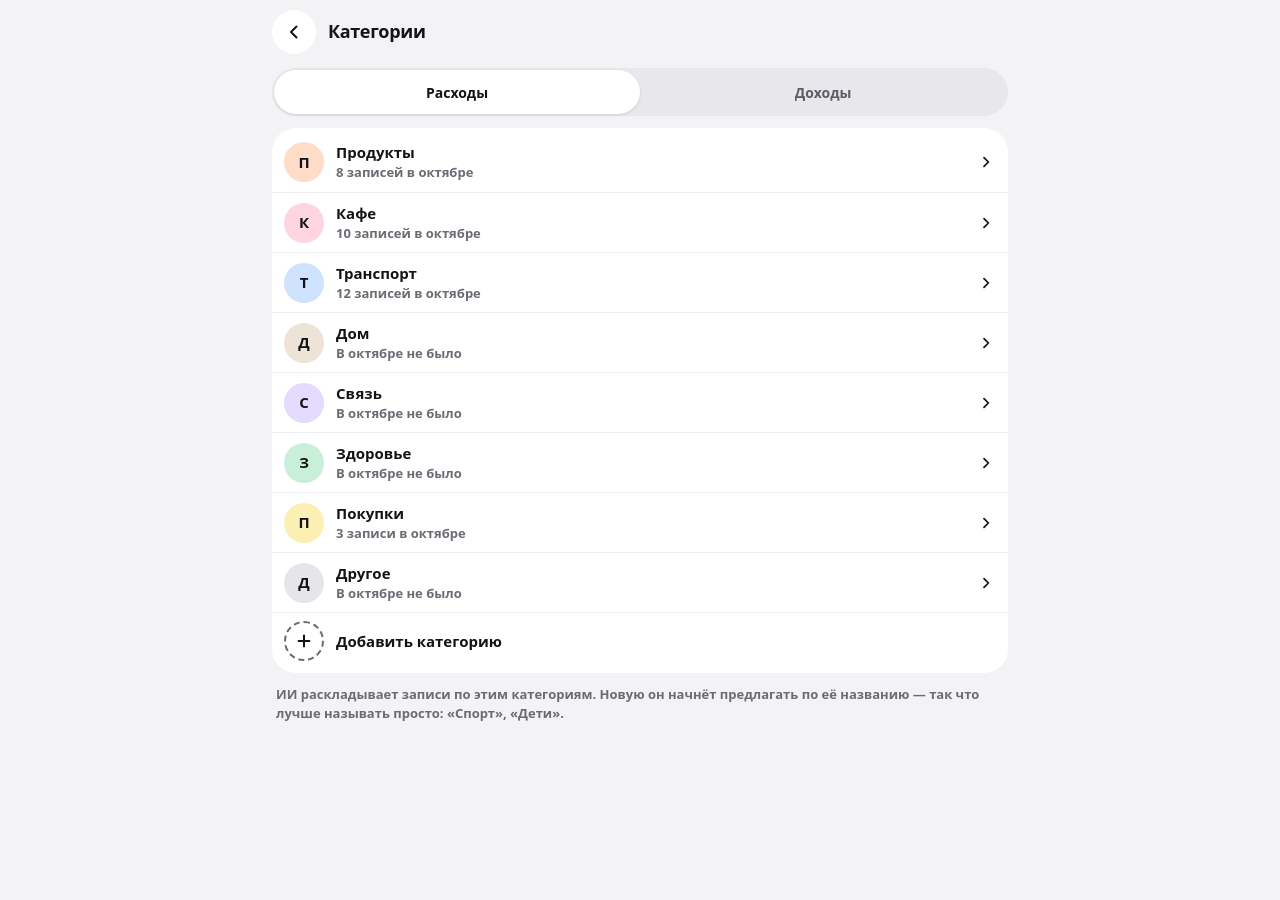
Scenario: «Категория «Кафе»»: the edit applies when the sheet closes › «Готово» closes and saves too; only a new colour says «новый цвет»
Click the button "К Кафе 10 записей в октябре".
click(304, 222)  # box [272, 192, 1008, 252]
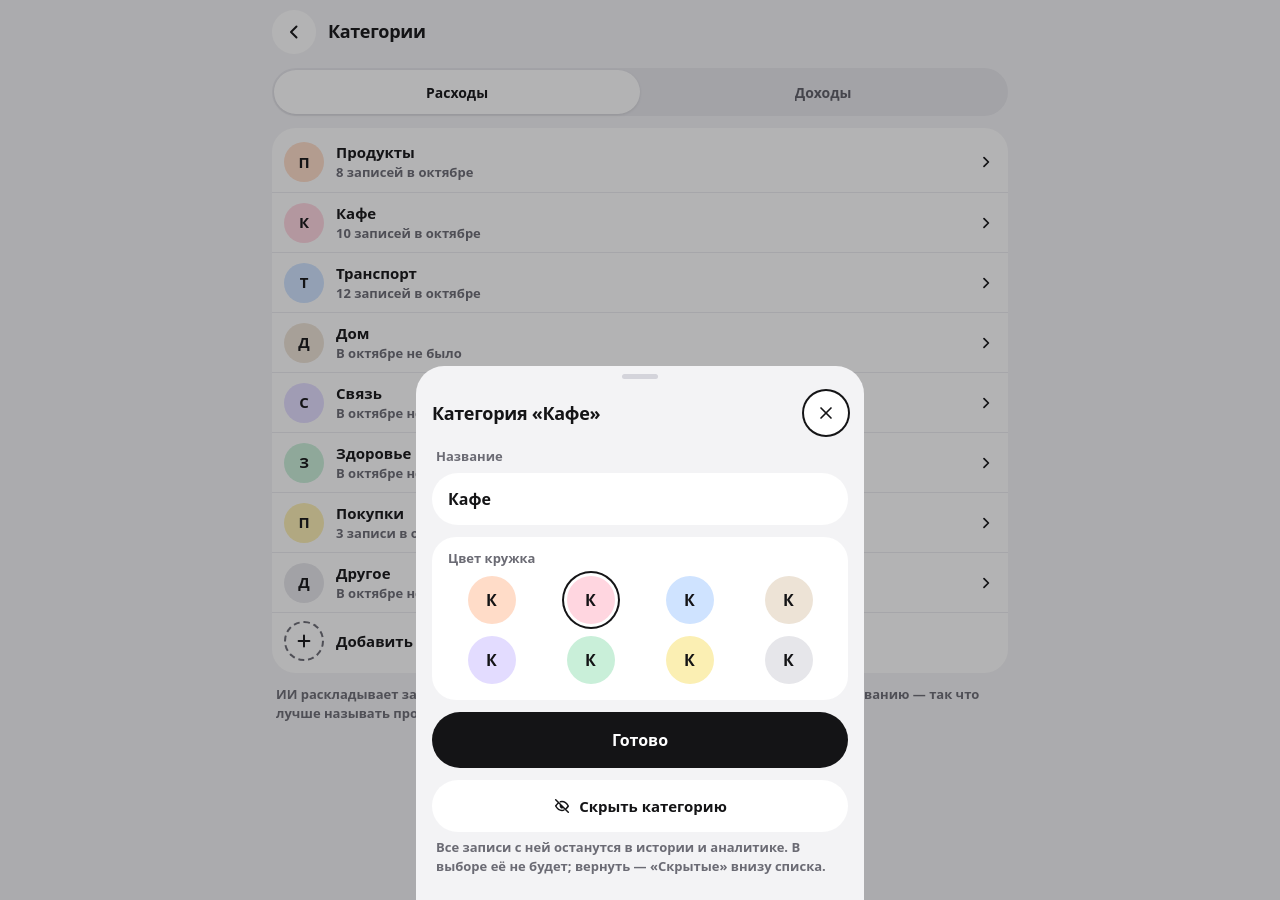
Click the 3rd radio button labelled "К".
click(690, 600)  # box [666, 576, 714, 624]
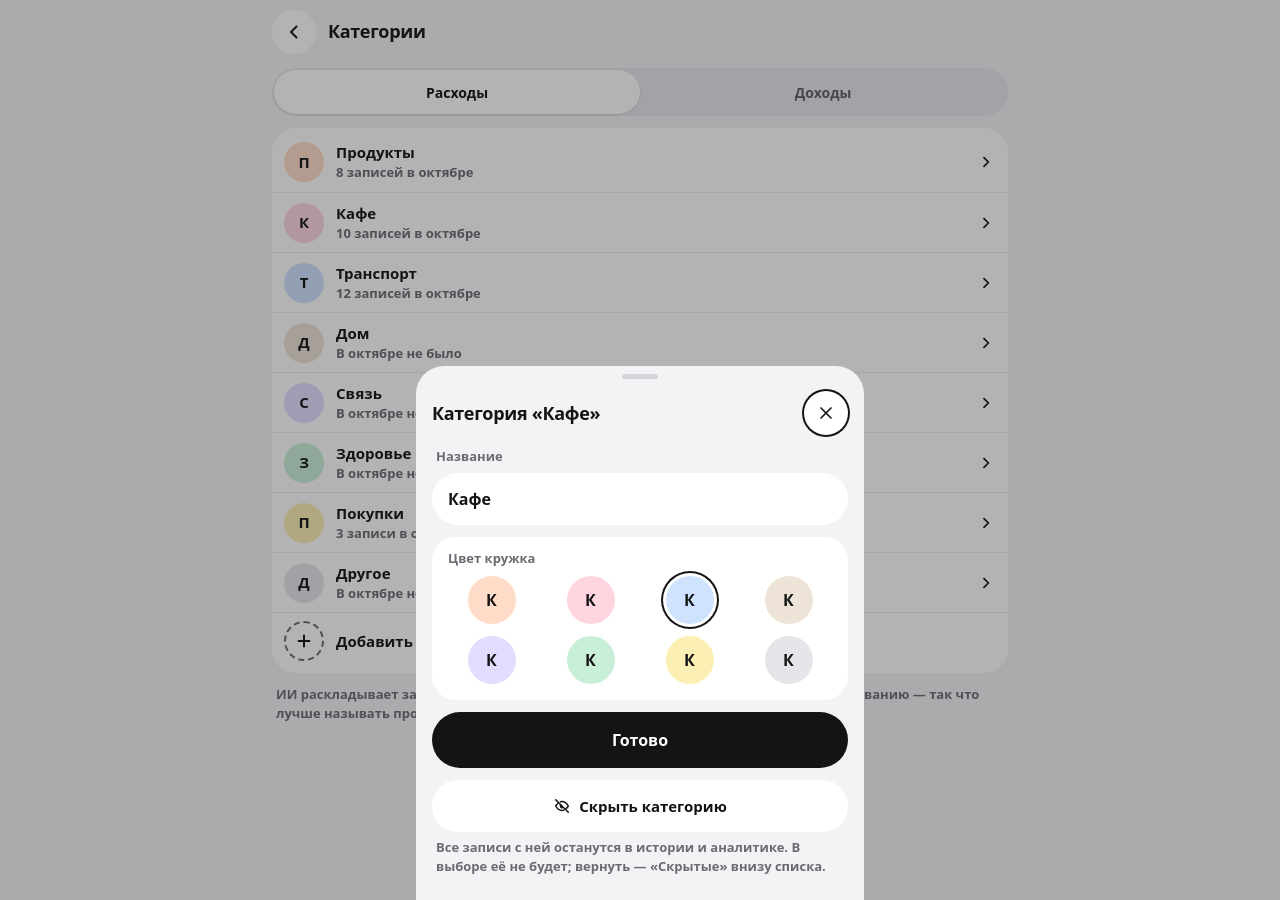
Click the button "Готово".
click(640, 740)  # box [432, 712, 848, 768]
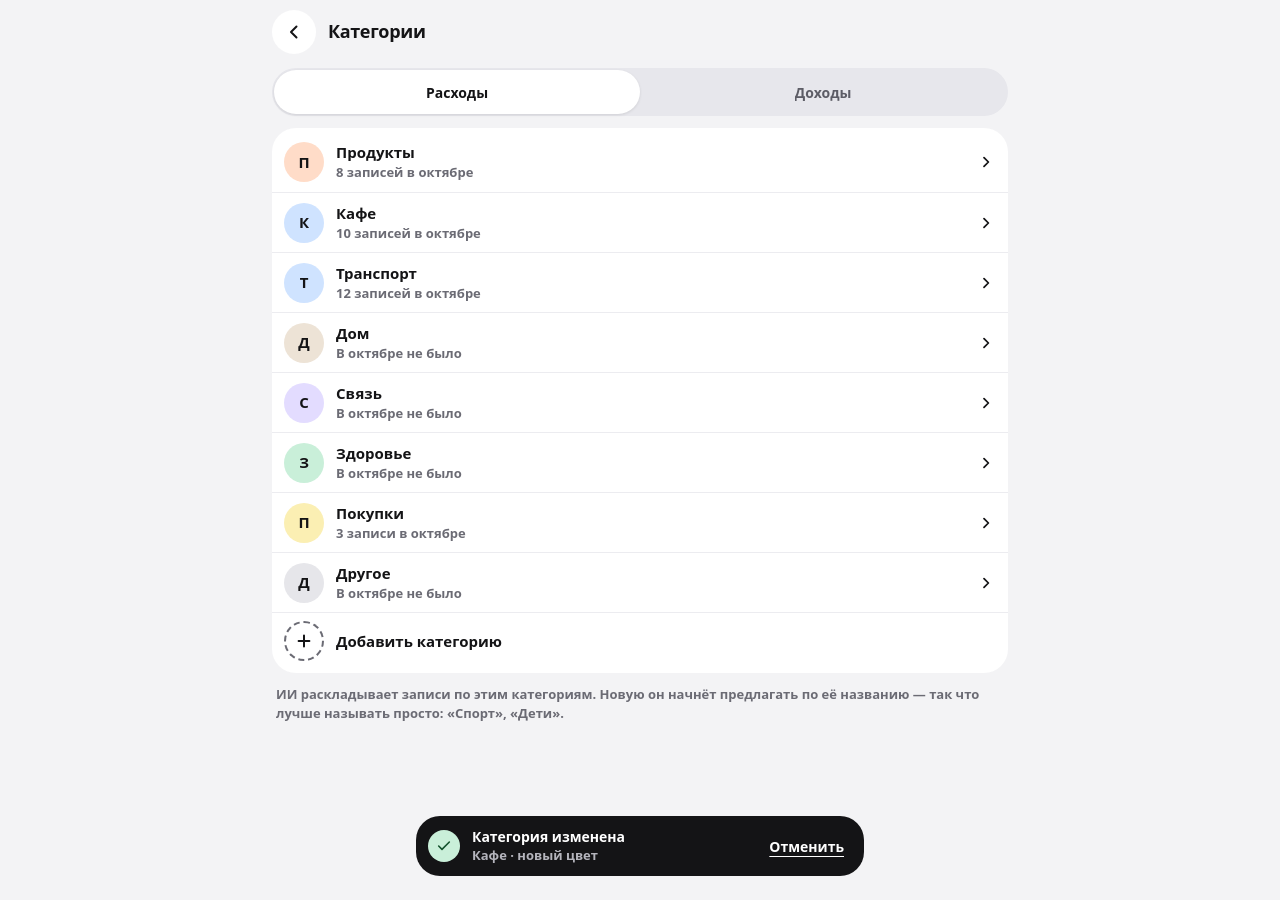
Now the dialog is gone
